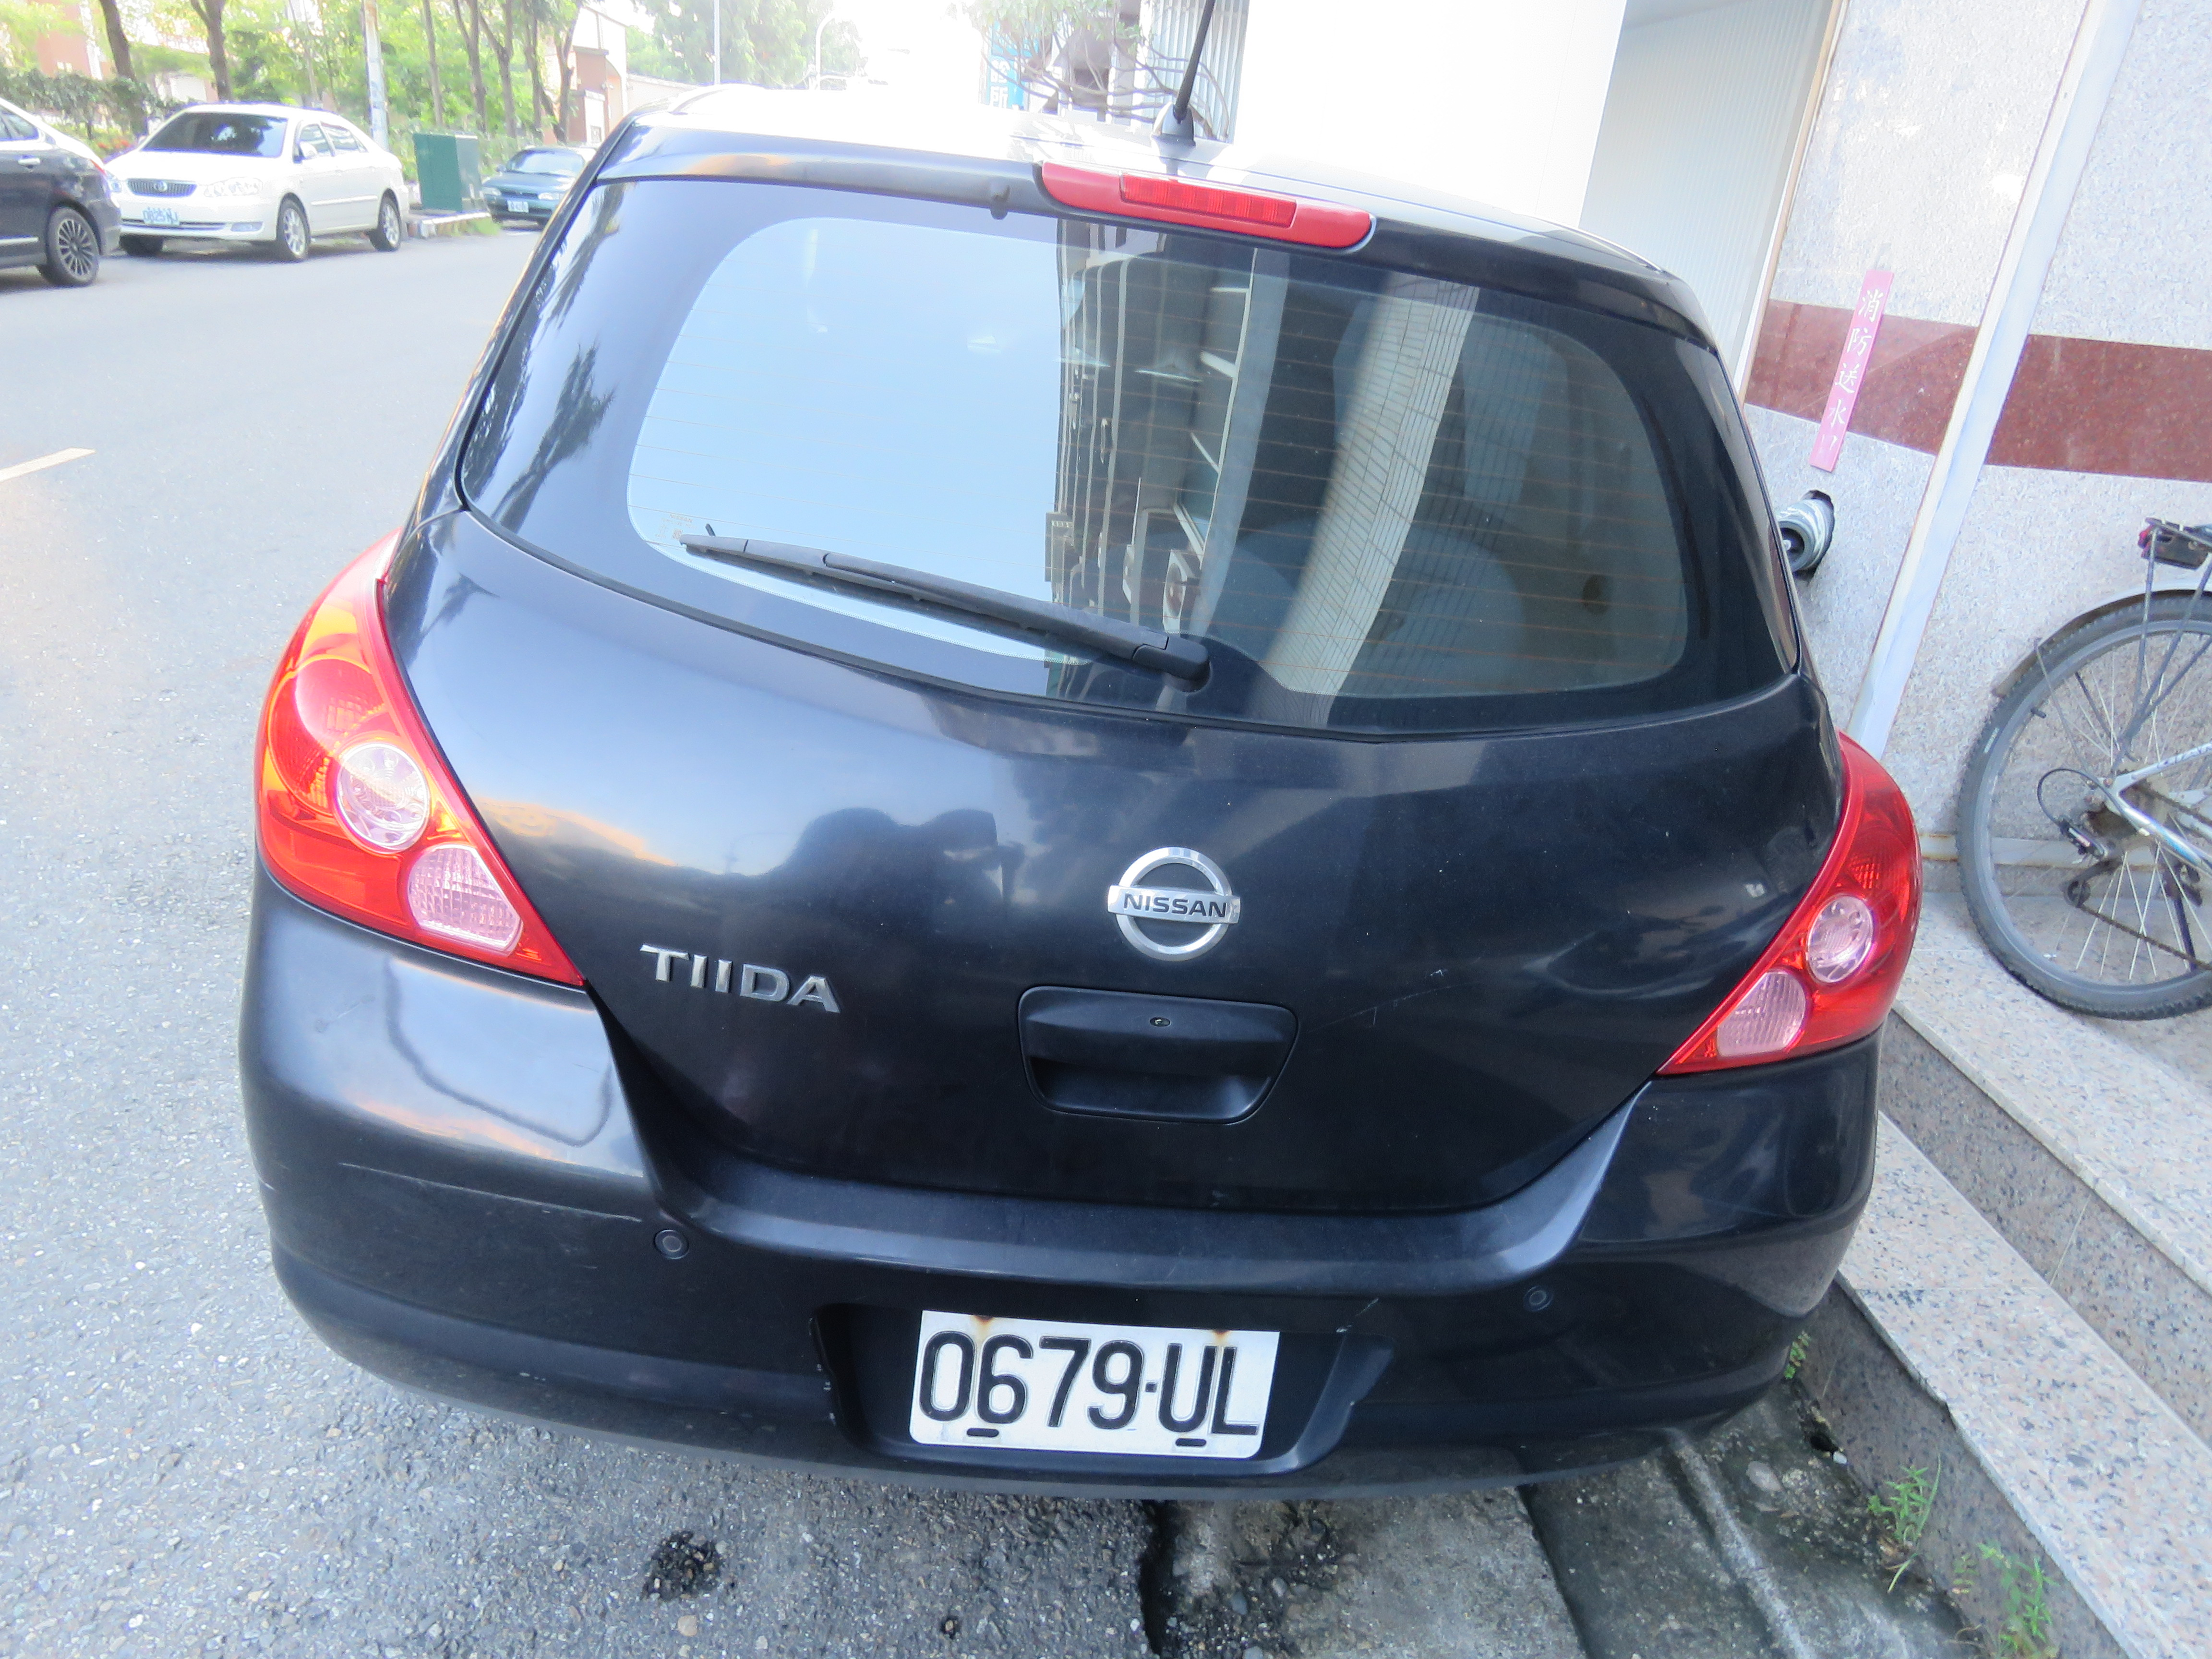car: (242, 117, 1914, 1507)
car_card: (904, 1305, 1284, 1481)
